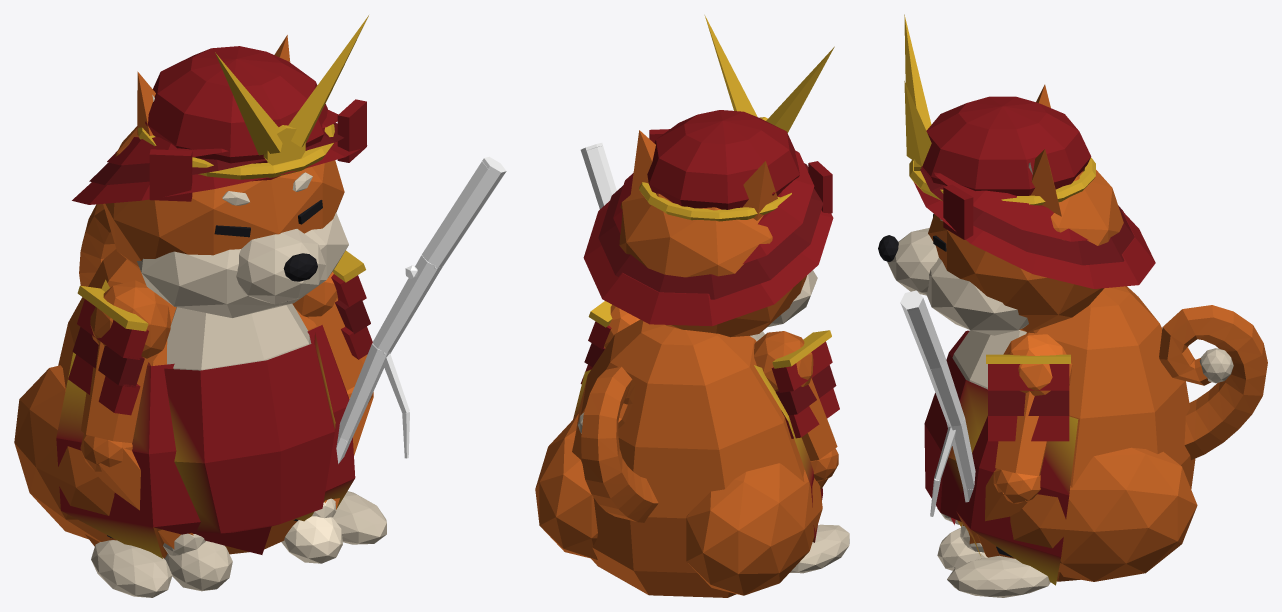
The model's file is SamuraiShiba.fbx.
3 views of the same model, side by side, from view 1: azimuth 30°, elevation 25°; view 2: azimuth 150°, elevation 25°; view 3: azimuth 270°, elevation 25° (orthographic). The views are drawn at different scales.
Parts seen in each view (by area): view 1: Body, Stick, ThrowArm; view 2: Body, Stick, ThrowArm; view 3: Body, ThrowArm, Stick.
Part boxes in pixels (x1,y1,x2,y2): Body: (14, 15, 386, 597); Stick: (336, 156, 506, 463); ThrowArm: (281, 271, 373, 563); Body: (535, 15, 849, 597); Stick: (580, 143, 616, 208); ThrowArm: (604, 304, 639, 348); Body: (878, 14, 1267, 597); ThrowArm: (937, 332, 1072, 570); Stick: (900, 290, 975, 516).
Bounding box in the file's own units: 1.01 × 1.5 × 1.06.
